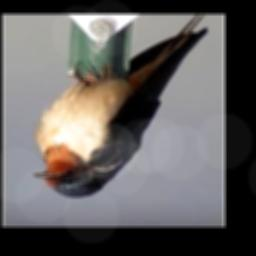Swallow: (32, 14, 209, 199)
